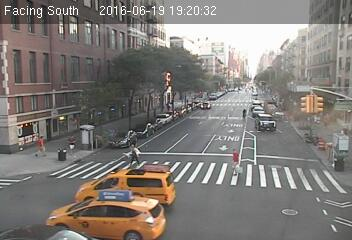neg: (157, 36, 183, 72), (20, 49, 46, 84), (261, 25, 286, 58), (207, 100, 231, 132), (284, 59, 307, 90), (146, 159, 168, 188), (200, 54, 222, 82), (296, 95, 317, 123), (302, 178, 323, 205), (121, 66, 141, 93), (76, 52, 95, 78), (16, 172, 34, 197), (305, 136, 323, 160), (186, 201, 204, 225), (237, 183, 253, 203), (63, 142, 78, 161), (84, 200, 97, 217), (88, 104, 100, 121)
pos: (223, 145, 250, 180), (124, 139, 145, 168), (33, 132, 54, 160)
